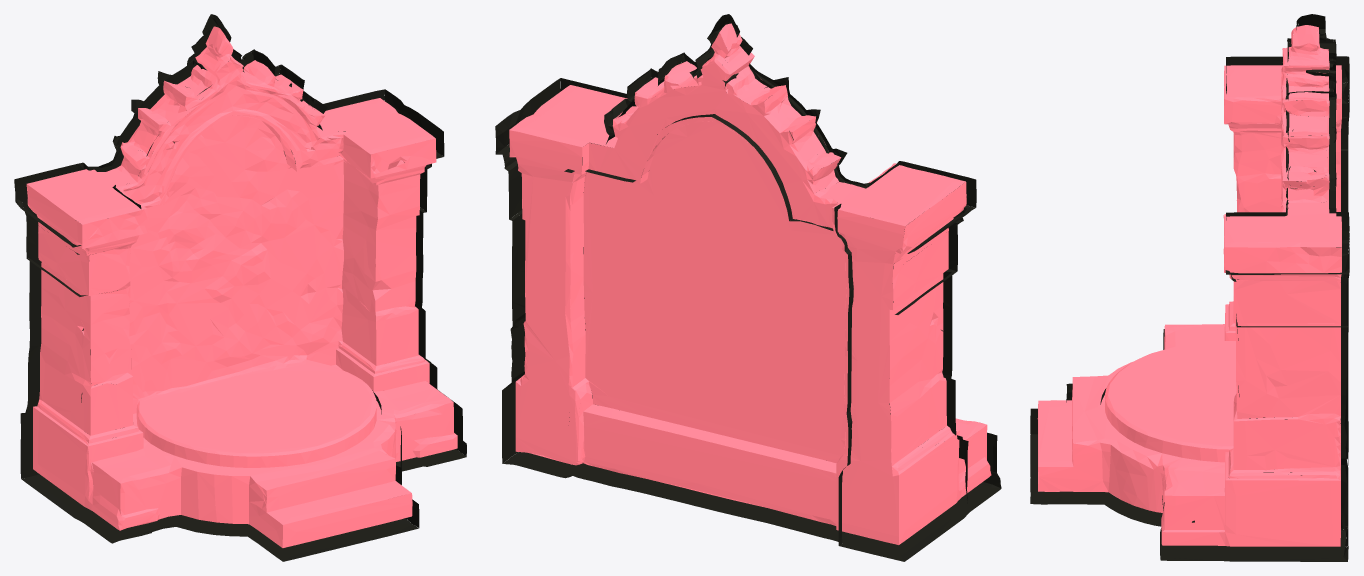
Rendered from df_v2_corrupted_altar_f_a.glb.
The picture shows the model from 3 angles, left to right: view 1: azimuth 30°, elevation 25°; view 2: azimuth 150°, elevation 25°; view 3: azimuth 270°, elevation 25°; orthographic projection. The views are drawn at different scales.
Parts seen in each view (by area): view 1: corrupted_altar_f_mesh_01, corrupted_altar_f_mesh_01_ink_outline; view 2: corrupted_altar_f_mesh_01, corrupted_altar_f_mesh_01_ink_outline; view 3: corrupted_altar_f_mesh_01, corrupted_altar_f_mesh_01_ink_outline.
Boxes of the visible parts, x1,y1,x2,y2 form: corrupted_altar_f_mesh_01: (26, 26, 457, 547); corrupted_altar_f_mesh_01_ink_outline: (14, 14, 466, 561); corrupted_altar_f_mesh_01: (509, 23, 991, 544); corrupted_altar_f_mesh_01_ink_outline: (495, 14, 1001, 561); corrupted_altar_f_mesh_01: (1037, 25, 1341, 546); corrupted_altar_f_mesh_01_ink_outline: (1030, 14, 1349, 561).
Bounding box in the file's own units: 1.57 × 1.75 × 1.11.
